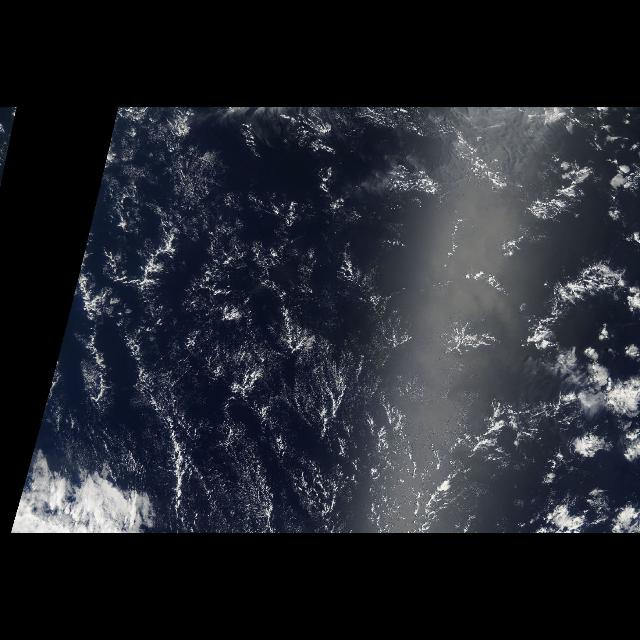Gravel: (136, 199, 418, 521)
Sugar: (64, 122, 512, 502)
